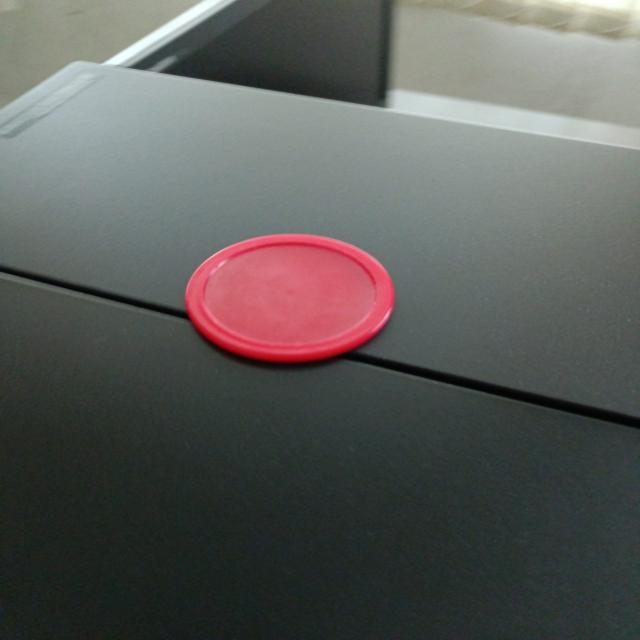chip: (182, 230, 400, 364)
